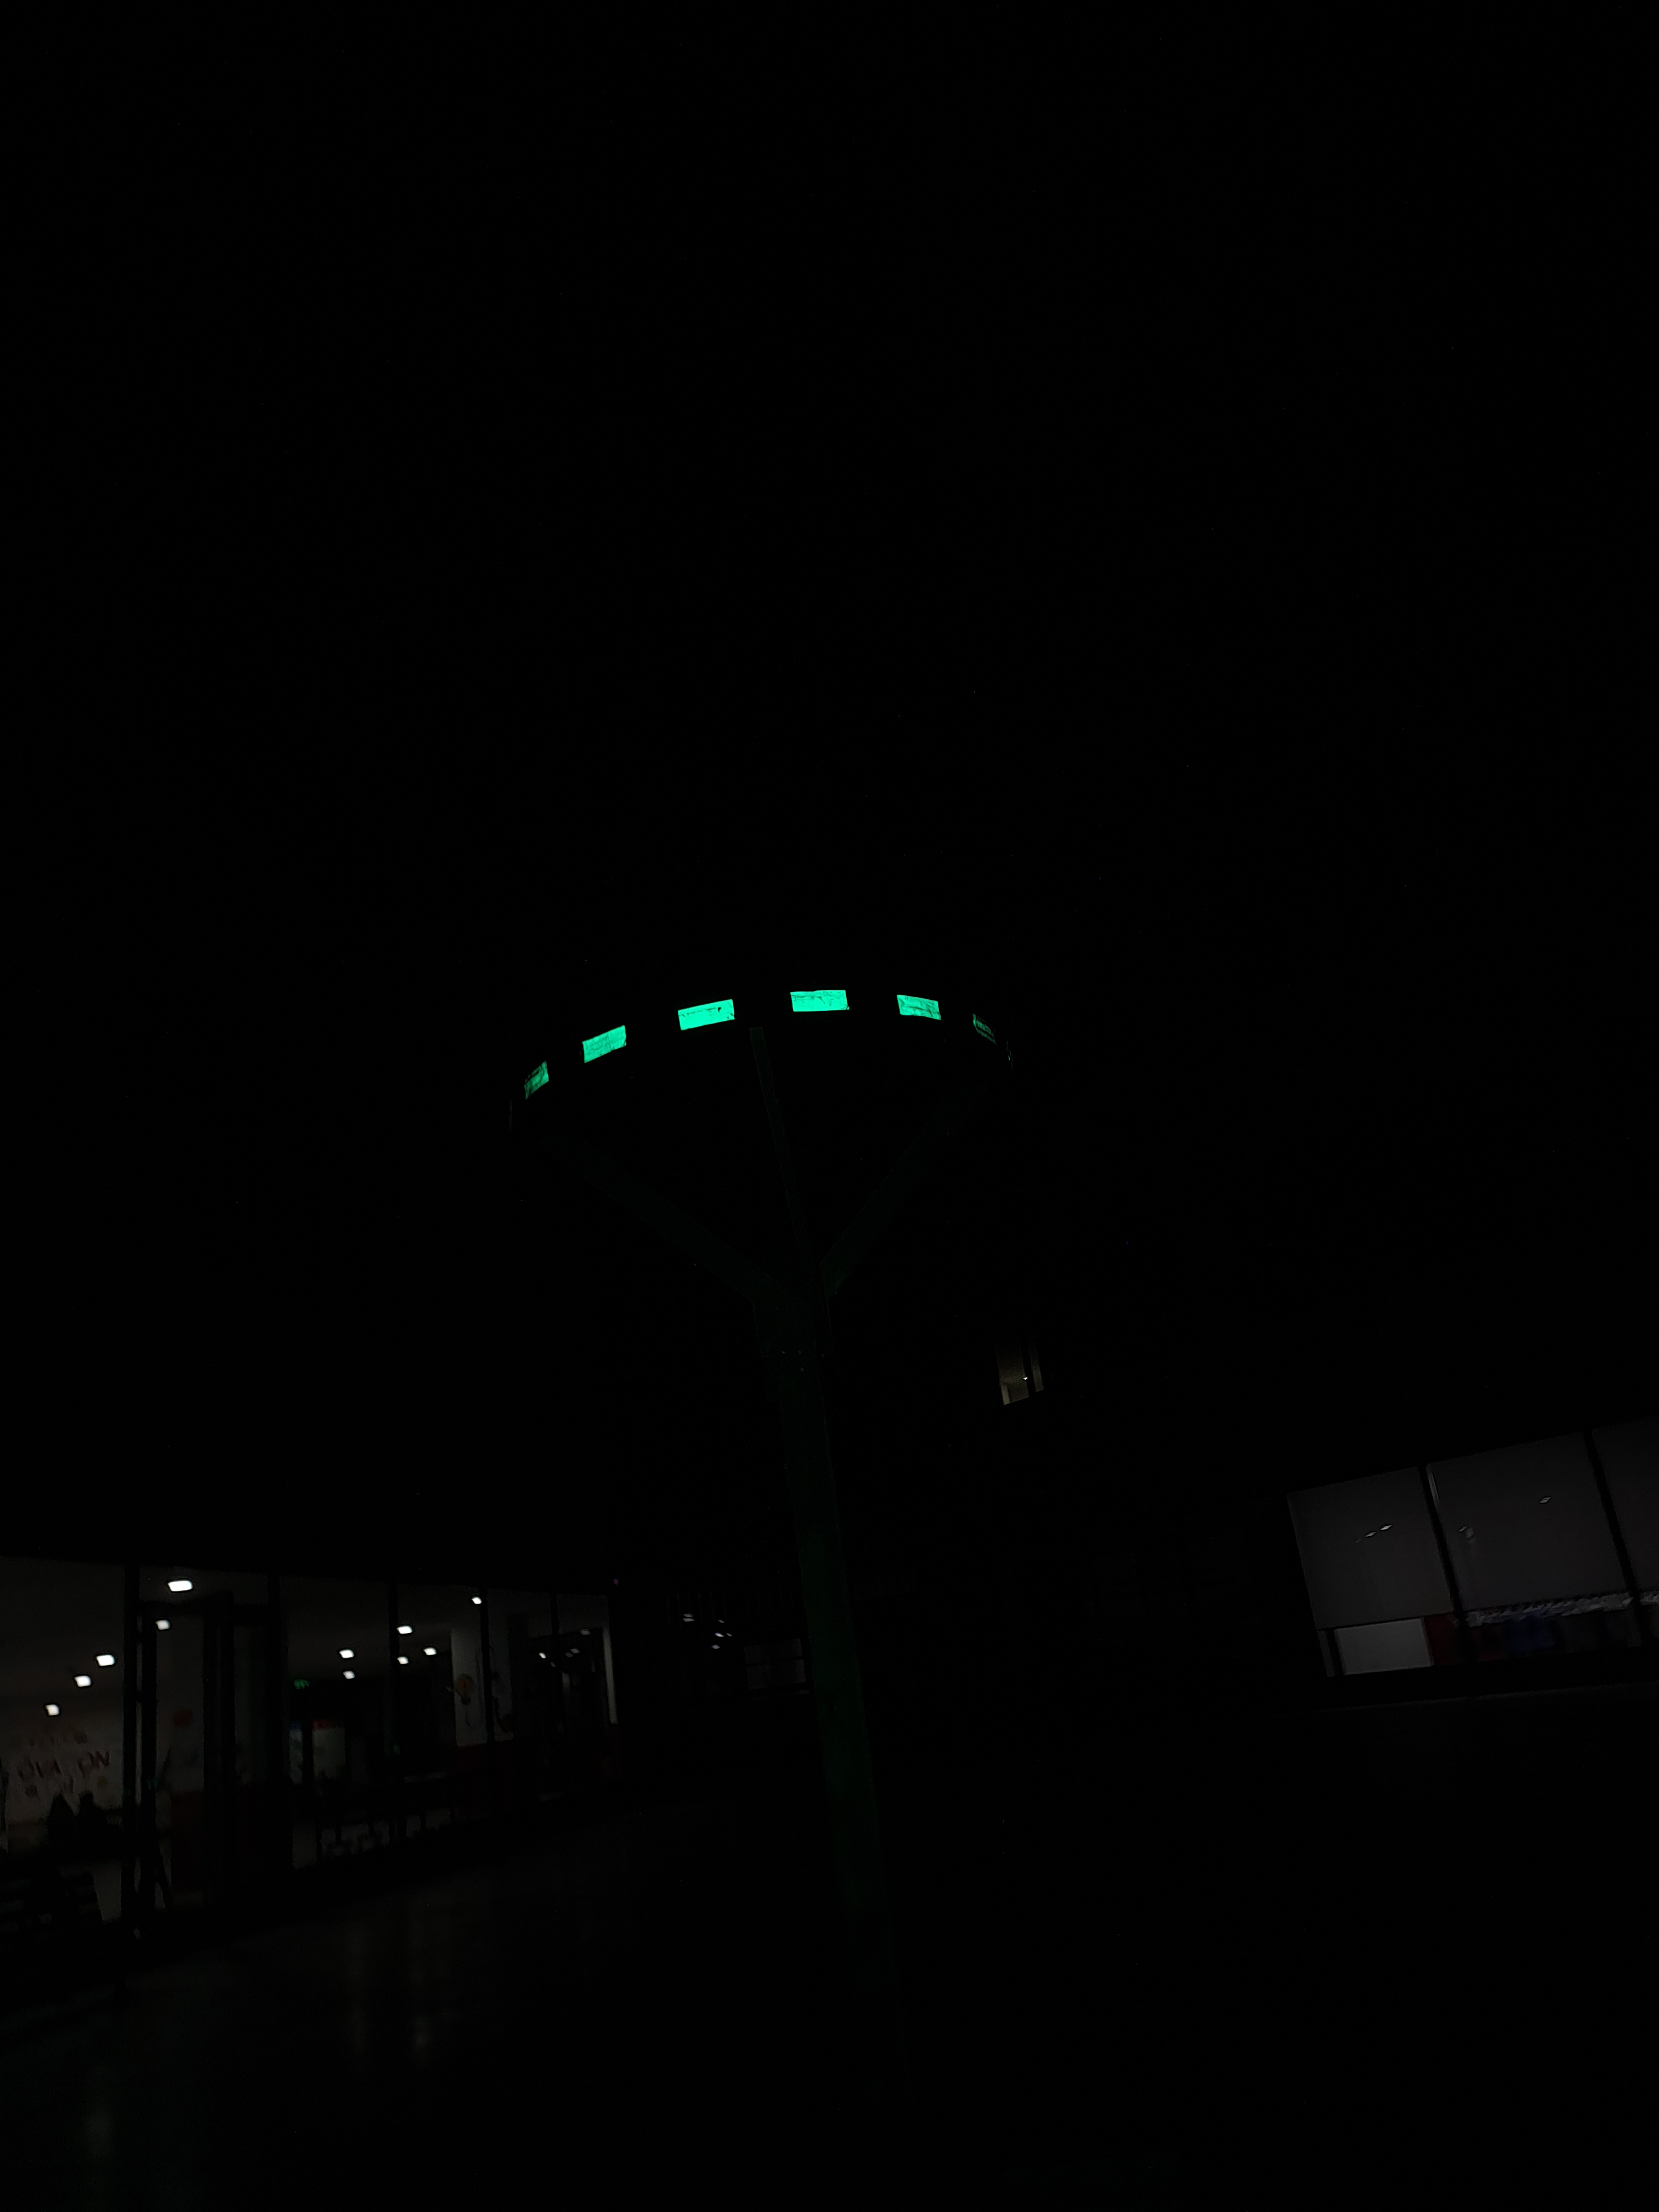hoop: (521, 984, 943, 1108)
